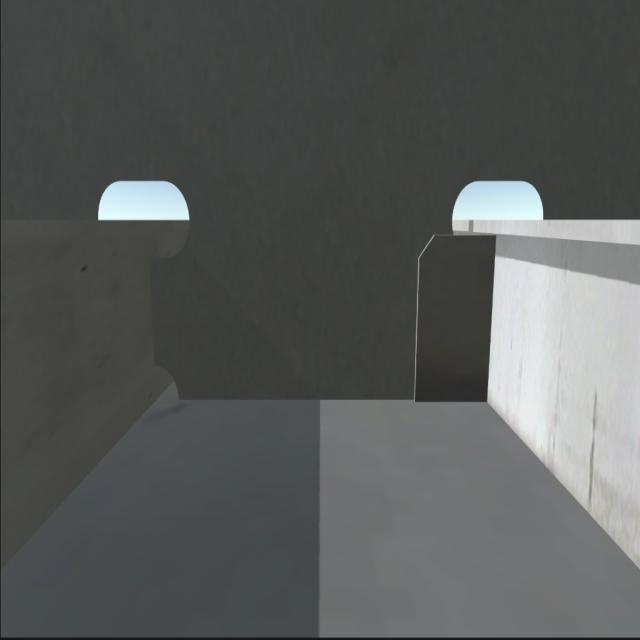fillet_hole: (154, 366, 182, 406)
fillet_yong_jeop_jang: (178, 389, 490, 409)
longi_yong_jeop_jang: (406, 226, 490, 404), (476, 231, 496, 411), (146, 258, 164, 364)
